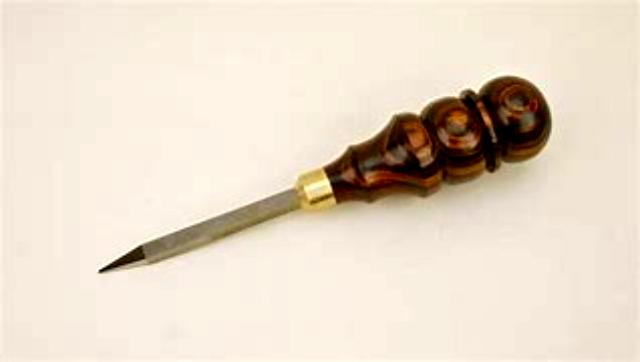ice pick: (101, 74, 555, 276)
